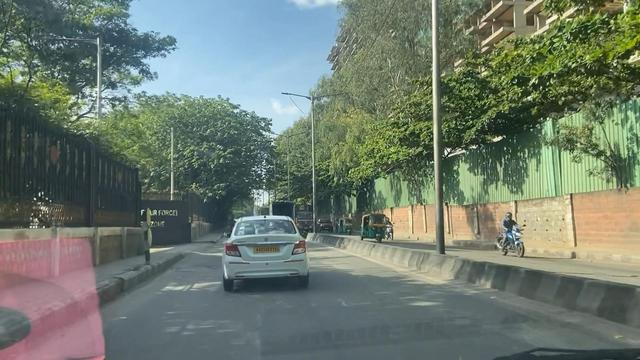RoadDamages: (171, 258, 228, 284)
